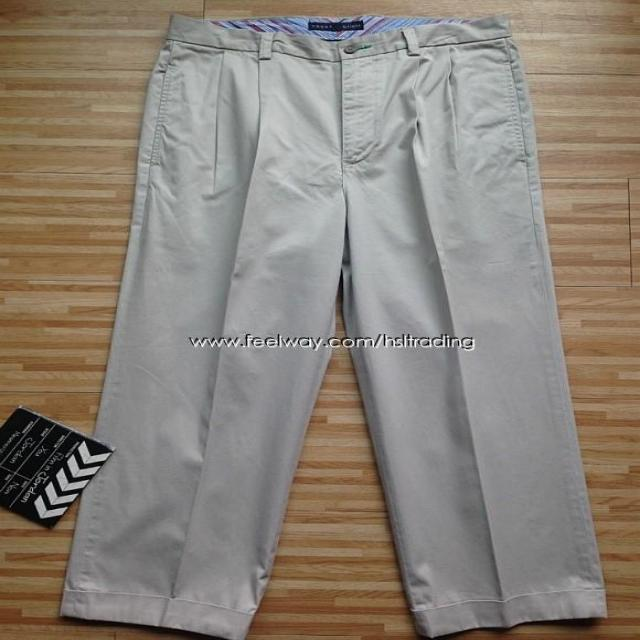long-pants: (59, 12, 609, 640)
